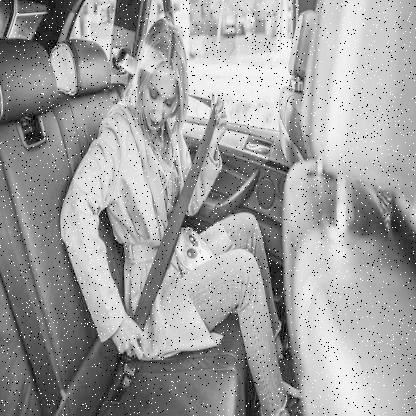seatbelt: (112, 21, 230, 306)
